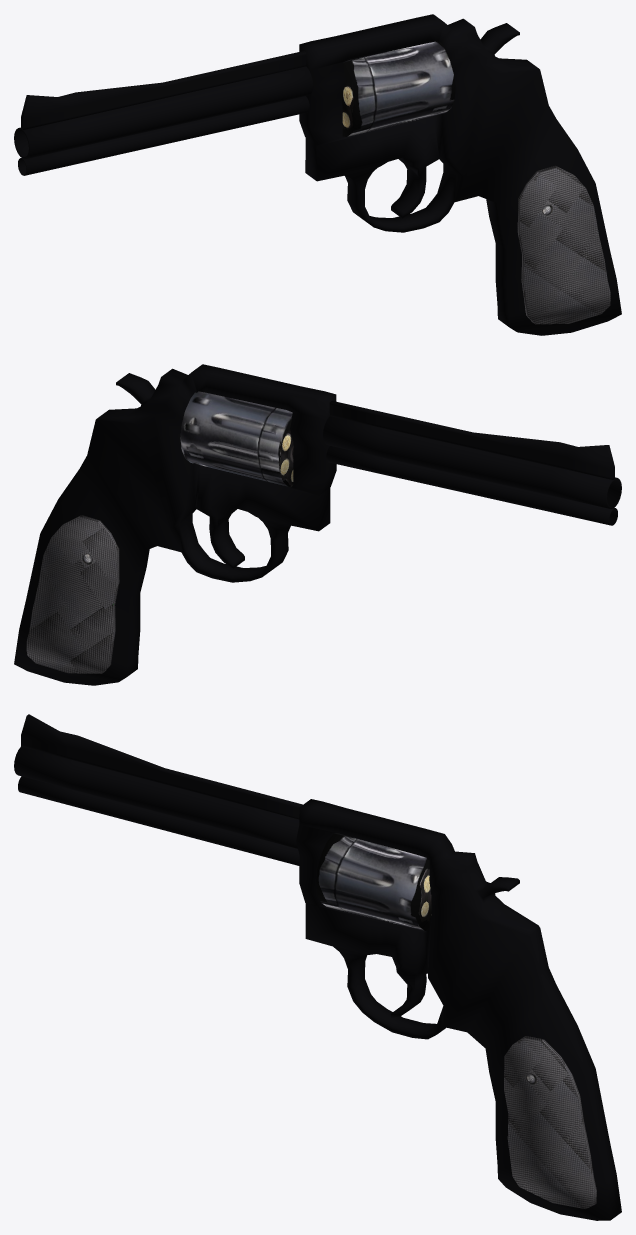
File: revolver.obj
3 views of the same model, one above another, from view 1: azimuth 30°, elevation 25°; view 2: azimuth 150°, elevation 25°; view 3: azimuth 330°, elevation 25° (orthographic).
Visible parts, largest first — view 1: revolver6, revolver2, revolver3, revolver5, revolver1, revolver4; view 2: revolver6, revolver7, revolver3, revolver5, revolver1, revolver4; view 3: revolver6, revolver2, revolver3, revolver5, revolver1, revolver4.
Boxes of the visible parts, left/top/right/bottom form: revolver6: left=299, top=14, right=621, bottom=335; revolver2: left=517, top=165, right=610, bottom=324; revolver3: left=14, top=66, right=313, bottom=158; revolver5: left=342, top=41, right=455, bottom=136; revolver1: left=21, top=51, right=306, bottom=129; revolver4: left=18, top=96, right=309, bottom=175; revolver6: left=14, top=364, right=336, bottom=685; revolver7: left=26, top=515, right=119, bottom=673; revolver3: left=323, top=416, right=621, bottom=508; revolver5: left=180, top=391, right=293, bottom=486; revolver1: left=329, top=401, right=614, bottom=479; revolver4: left=326, top=446, right=617, bottom=525; revolver6: left=296, top=799, right=621, bottom=1220; revolver2: left=504, top=1036, right=596, bottom=1208; revolver3: left=14, top=746, right=299, bottom=848; revolver5: left=316, top=833, right=431, bottom=930; revolver1: left=21, top=714, right=302, bottom=819; revolver4: left=18, top=776, right=299, bottom=865.
Bounding box in the file's own units: 151 × 88.4 × 18.03.
